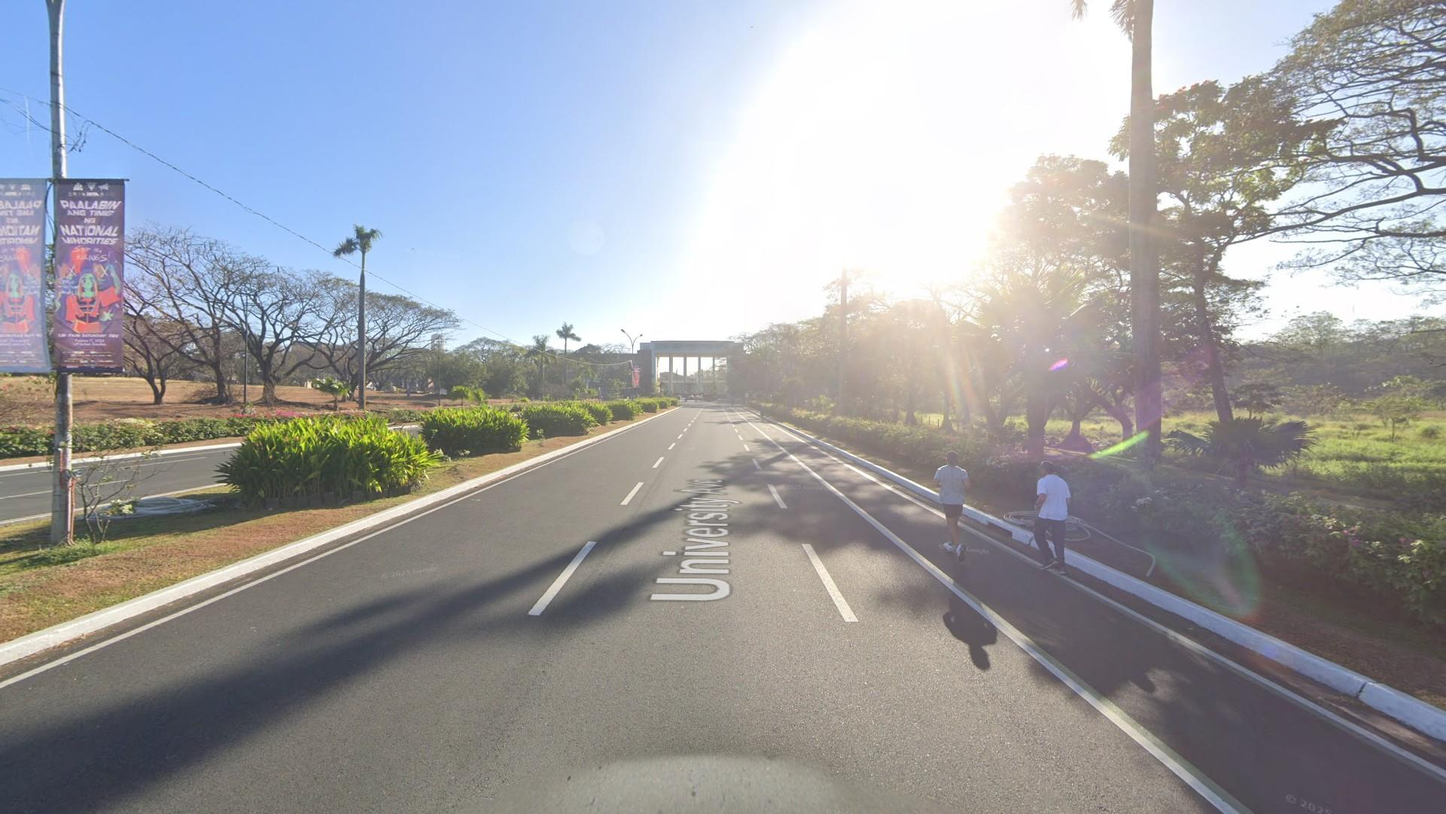pedestrian: (1031, 459, 1072, 574), (934, 449, 973, 562), (760, 405, 765, 423), (731, 397, 734, 407)
